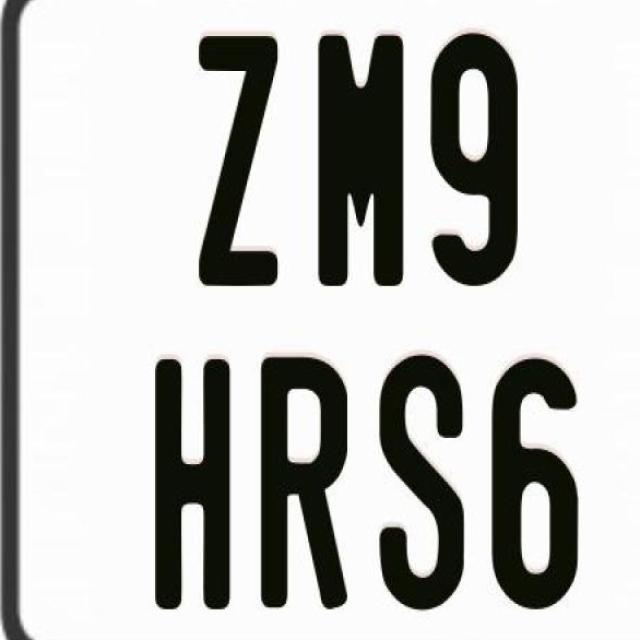license-plate: (14, 10, 640, 640)
